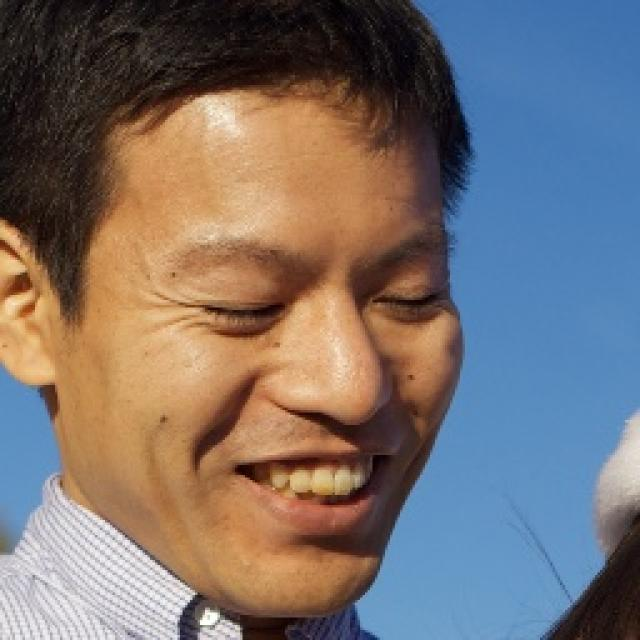earlobe: (2, 342, 52, 387)
eye: (186, 295, 290, 321), (370, 284, 447, 314)
nose: (273, 404, 387, 442)
wholeear: (0, 212, 53, 386)
